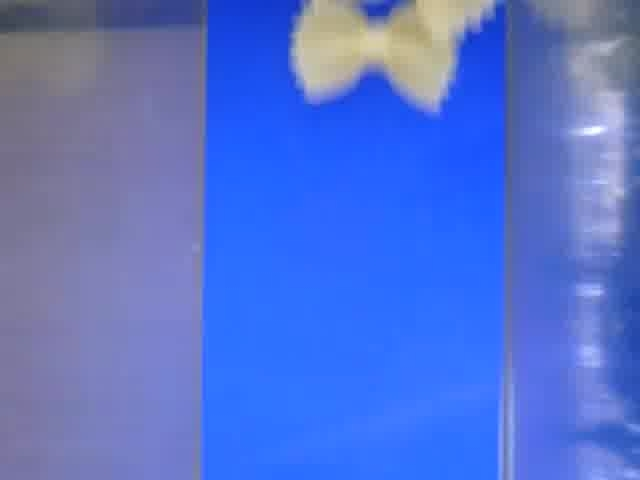farfalle: (290, 1, 462, 110)
